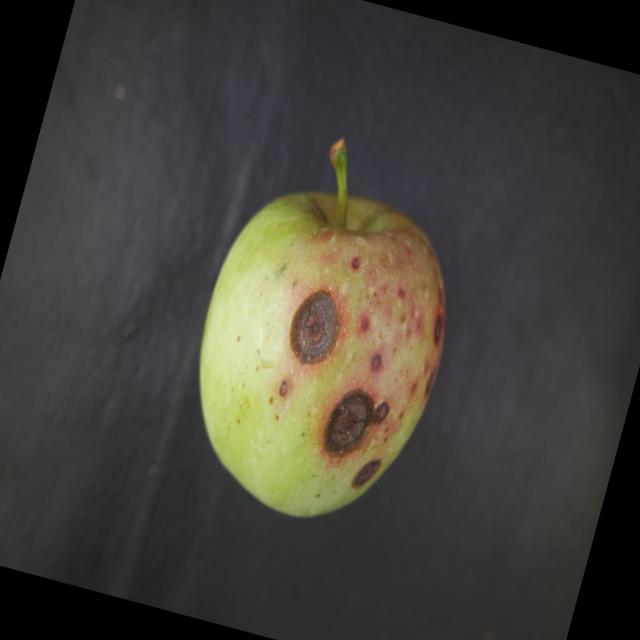rotten: (151, 149, 492, 556)
